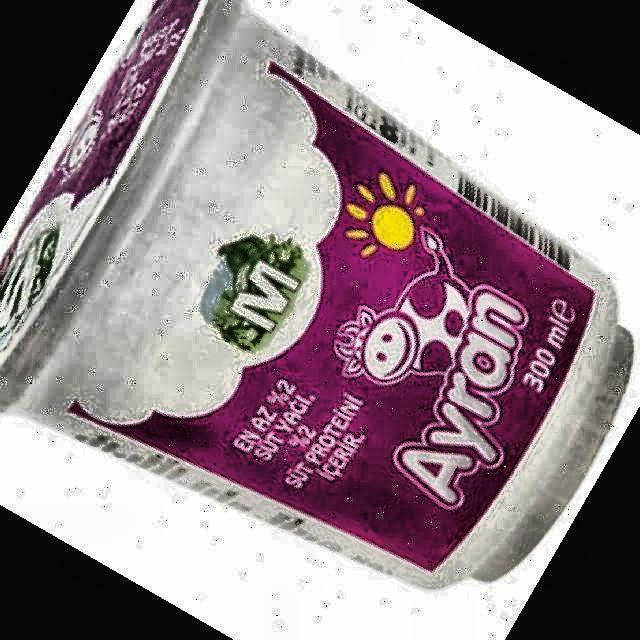plastic: (0, 0, 632, 586)
